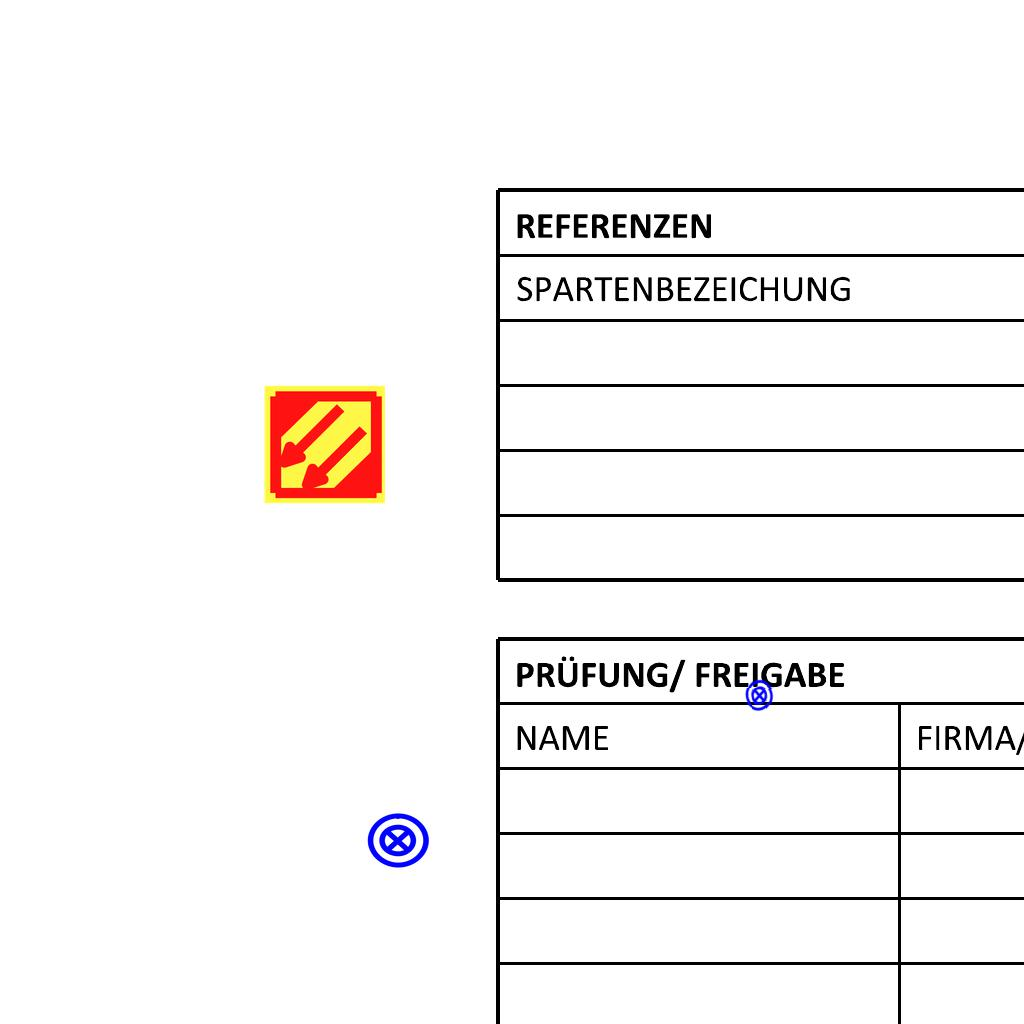ASR_Ansaugrauchmelder: (262, 382, 387, 507)
Taster_beleuchtet: (365, 808, 431, 874), (741, 677, 778, 714)
